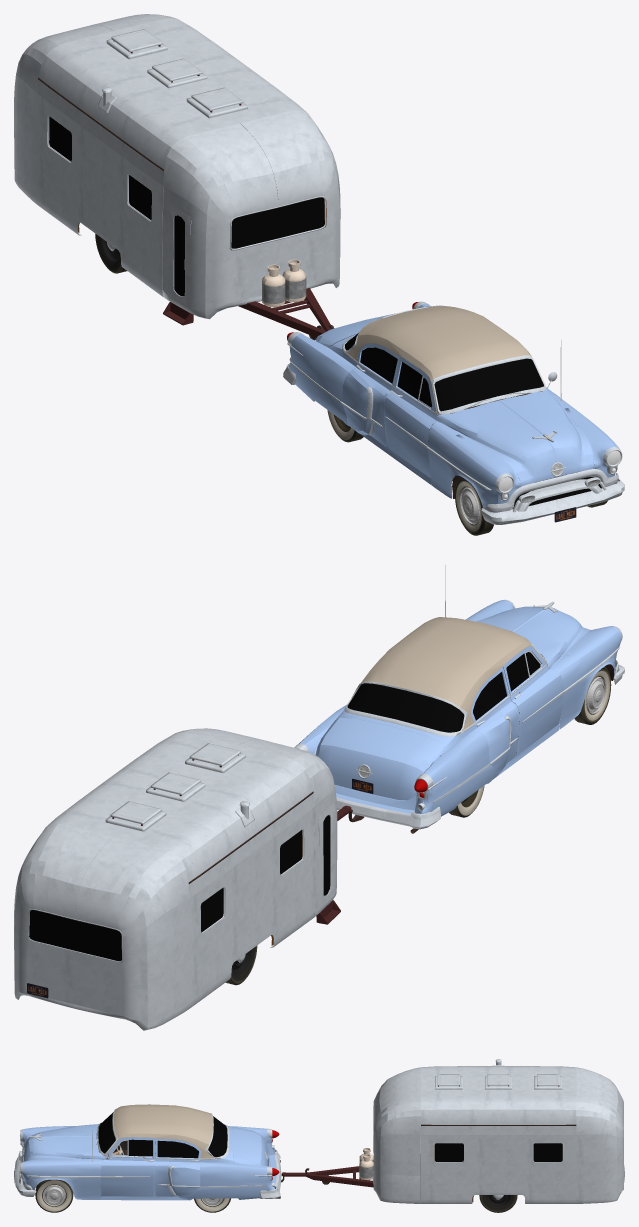
The model's file is 1950s-american-sedan-with-caravan-trailer-pack.fbx.
3 views of the same model, one above another, from view 1: azimuth 30°, elevation 25°; view 2: azimuth 150°, elevation 25°; view 3: azimuth 270°, elevation 25° (orthographic). The views are drawn at different scales.
Visible parts, largest first — view 1: 807, 400, 237, 465, 373, 815, 446, 286, 677, 834, 1052, 897 (+5 smaller); view 2: 807, 400, 465, 815, 373, 446, 286, 237, 677, 1052, 693, 302 (+1 smaller); view 3: 807, 400, 465, 197, 237, 373, 735, 815, 446, 834, 52, 743 (+7 smaller).
Boxes of the visible parts, x1=… form: 807: x1=14, y1=14, x2=340, y2=319; 400: x1=288, y1=303, x2=618, y2=512; 237: x1=436, y1=388, x2=593, y2=486; 465: x1=346, y1=305, x2=544, y2=414; 373: x1=283, y1=301, x2=624, y2=524; 815: x1=49, y1=116, x2=324, y2=248; 446: x1=345, y1=333, x2=543, y2=411; 286: x1=384, y1=356, x2=436, y2=478; 677: x1=342, y1=343, x2=399, y2=446; 834: x1=113, y1=41, x2=330, y2=337; 1052: x1=167, y1=202, x2=191, y2=307; 897: x1=262, y1=259, x2=306, y2=307; 807: x1=14, y1=728, x2=337, y2=1030; 400: x1=299, y1=600, x2=621, y2=816; 465: x1=358, y1=617, x2=546, y2=731; 815: x1=29, y1=830, x2=302, y2=960; 373: x1=294, y1=565, x2=624, y2=829; 446: x1=347, y1=683, x2=464, y2=732; 286: x1=503, y1=646, x2=563, y2=755; 237: x1=476, y1=606, x2=590, y2=668; 677: x1=470, y1=667, x2=519, y2=779; 1052: x1=318, y1=802, x2=334, y2=907; 693: x1=473, y1=672, x2=506, y2=720; 302: x1=506, y1=652, x2=540, y2=691; 807: x1=372, y1=1059, x2=624, y2=1203; 400: x1=22, y1=1126, x2=276, y2=1200; 465: x1=105, y1=1104, x2=214, y2=1158; 197: x1=100, y1=1137, x2=155, y2=1196; 237: x1=23, y1=1124, x2=105, y2=1161; 373: x1=14, y1=1109, x2=281, y2=1198; 735: x1=155, y1=1138, x2=201, y2=1198; 815: x1=435, y1=1143, x2=562, y2=1161; 446: x1=98, y1=1112, x2=227, y2=1157; 834: x1=281, y1=1085, x2=559, y2=1187; 52: x1=35, y1=1179, x2=73, y2=1212; 743: x1=157, y1=1140, x2=198, y2=1158.
Bounding box in the file's own units: 233 × 256 × 1228.
